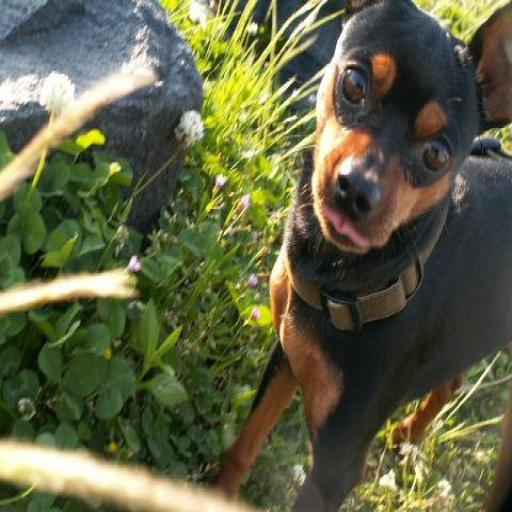dog_face: (303, 6, 512, 257)
